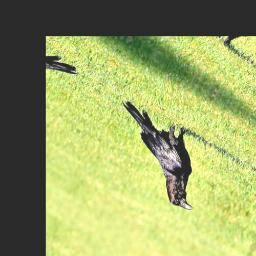Crow: (94, 89, 225, 218)
